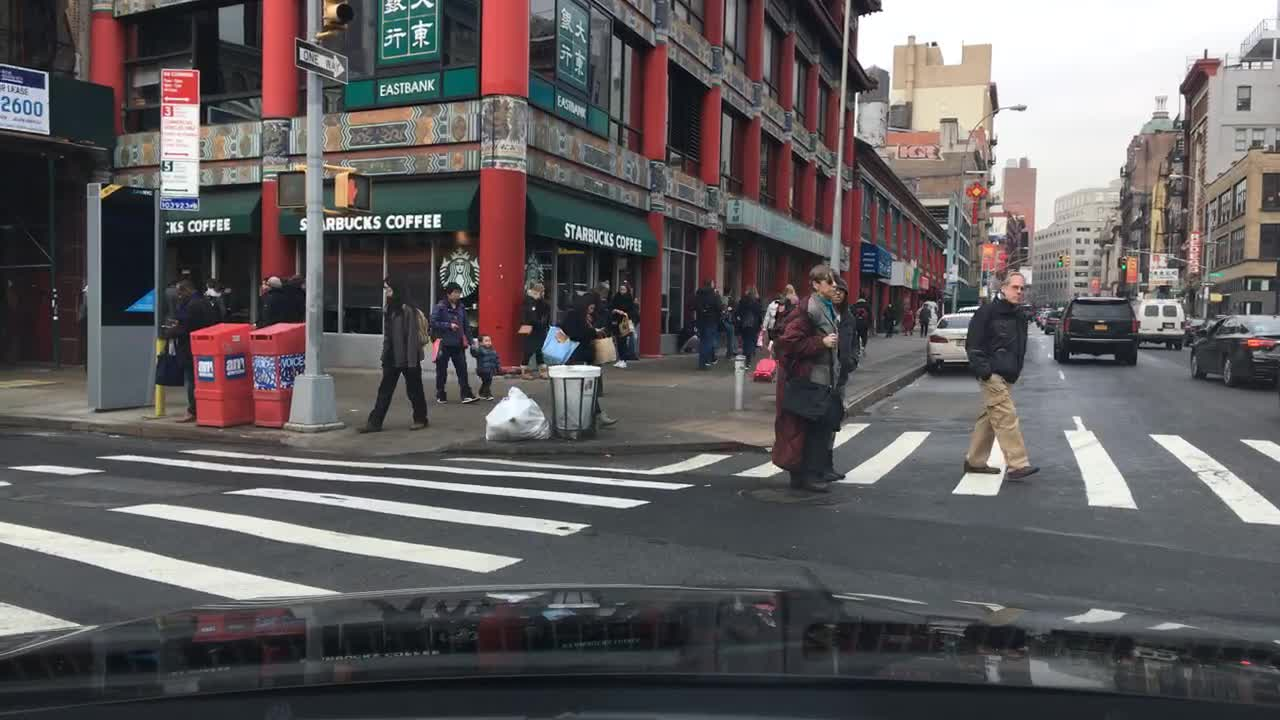car: (1189, 311, 1279, 387), (1051, 293, 1139, 366), (926, 310, 976, 371), (1136, 297, 1182, 344), (1177, 315, 1215, 344), (1042, 308, 1056, 333), (959, 301, 986, 313), (1033, 305, 1048, 322)
person: (962, 269, 1040, 484), (764, 264, 838, 487), (355, 277, 434, 435), (539, 290, 614, 432), (155, 282, 217, 426), (426, 280, 478, 407), (832, 280, 857, 476), (518, 277, 548, 380), (691, 277, 724, 366), (465, 335, 506, 402), (613, 274, 641, 360), (752, 290, 781, 372), (586, 282, 609, 360), (736, 288, 760, 362), (253, 274, 283, 329), (202, 279, 235, 319), (719, 282, 736, 357), (852, 288, 871, 351), (286, 269, 302, 327), (917, 302, 931, 333), (884, 304, 895, 338), (787, 282, 800, 308), (901, 307, 912, 332)
traffic light: (333, 167, 373, 211), (271, 167, 308, 211), (321, 0, 351, 29), (1117, 253, 1127, 271), (1208, 291, 1221, 304), (1062, 253, 1069, 271), (1055, 253, 1059, 268)
traffic sign: (156, 68, 202, 214), (293, 40, 348, 87), (1208, 269, 1224, 277), (1199, 279, 1211, 286)
